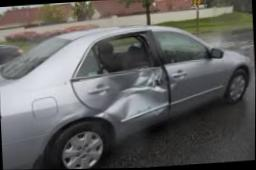Door: (73, 30, 173, 138)
Fender: (49, 101, 82, 126)
